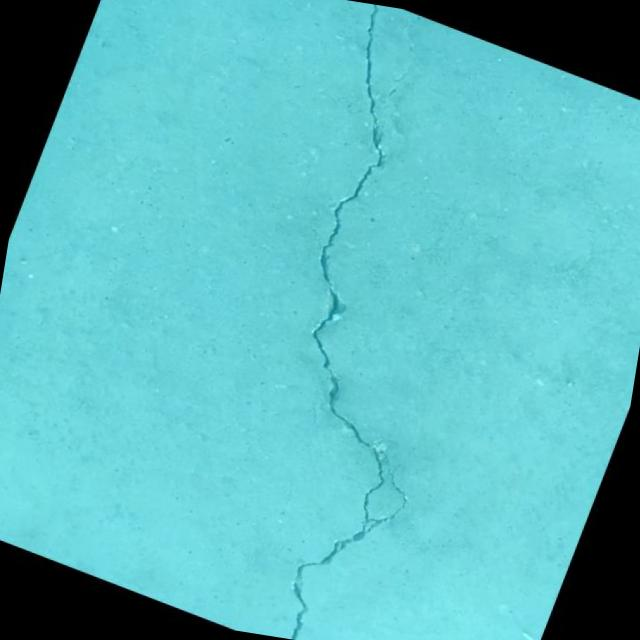crack: (141, 0, 578, 640)
